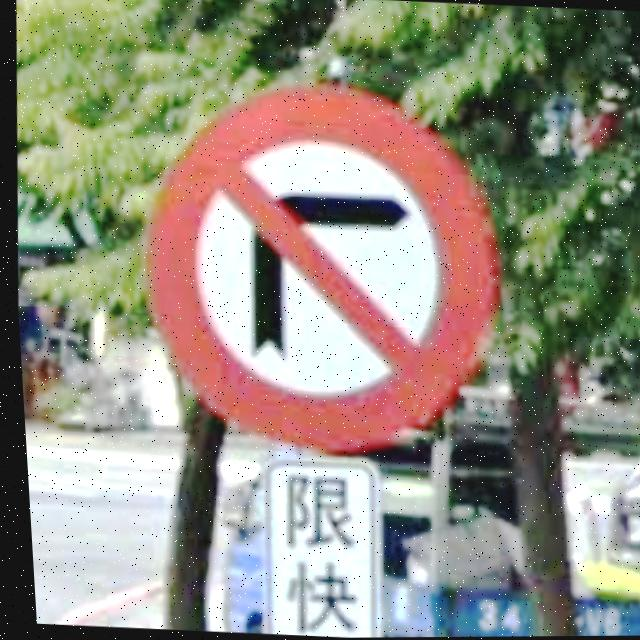noturnright: (142, 86, 495, 453)
